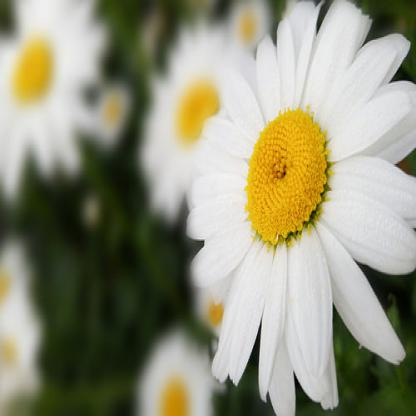ASTER: (123, 9, 415, 410)
